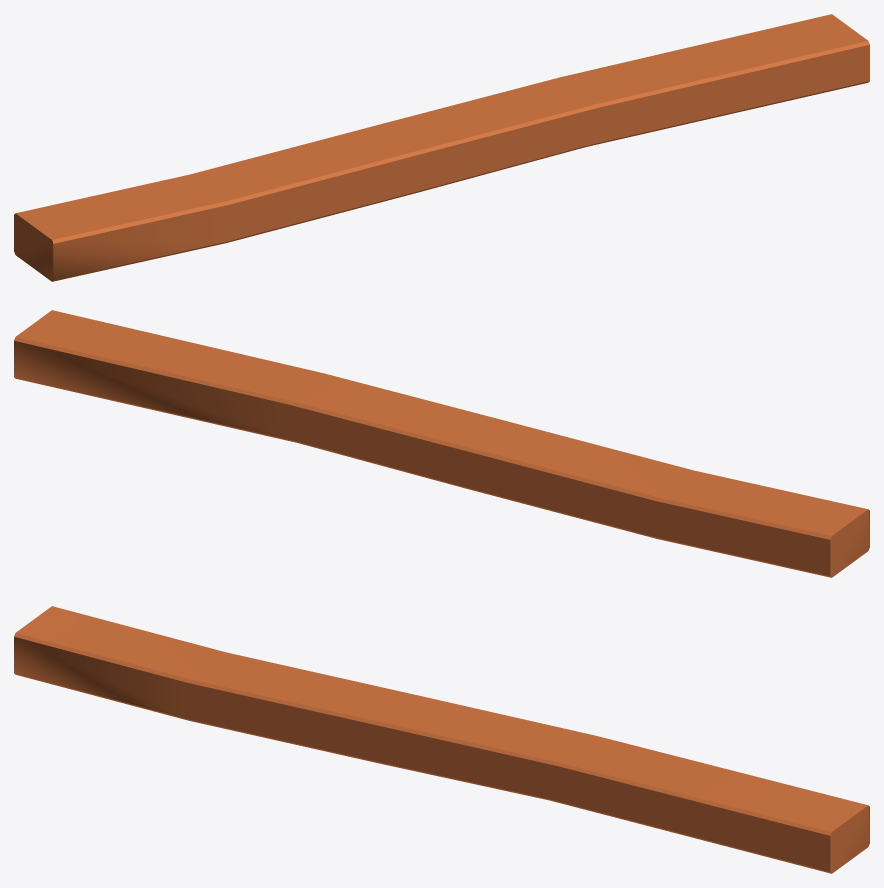
File: HorizBeam.fbx
3 views of the same model, one above another, from view 1: azimuth 30°, elevation 25°; view 2: azimuth 150°, elevation 25°; view 3: azimuth 330°, elevation 25° (orthographic).
Parts seen in each view (by area): view 1: Box070; view 2: Box070; view 3: Box070.
Boxes of the visible parts, x1,y1,x2,y2 form: Box070: [14, 14, 869, 281]; Box070: [14, 310, 869, 577]; Box070: [14, 606, 869, 873].
Bounding box in the file's own units: 217 × 18.23 × 12.37.
